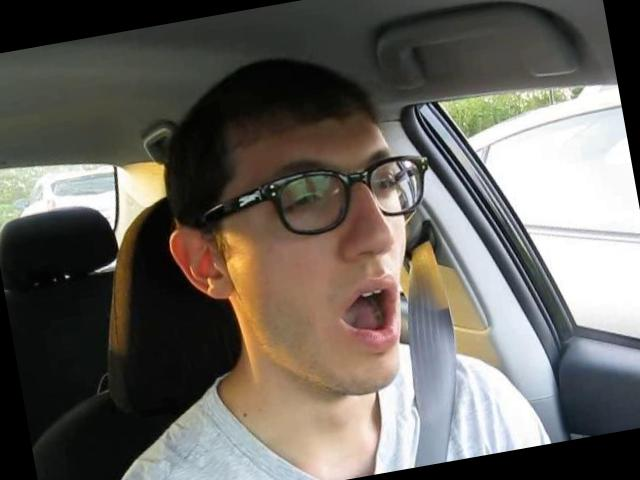eye_open: (281, 180, 333, 226), (366, 162, 406, 202)
face: (212, 124, 436, 414)
mouth_open: (332, 272, 408, 359)
